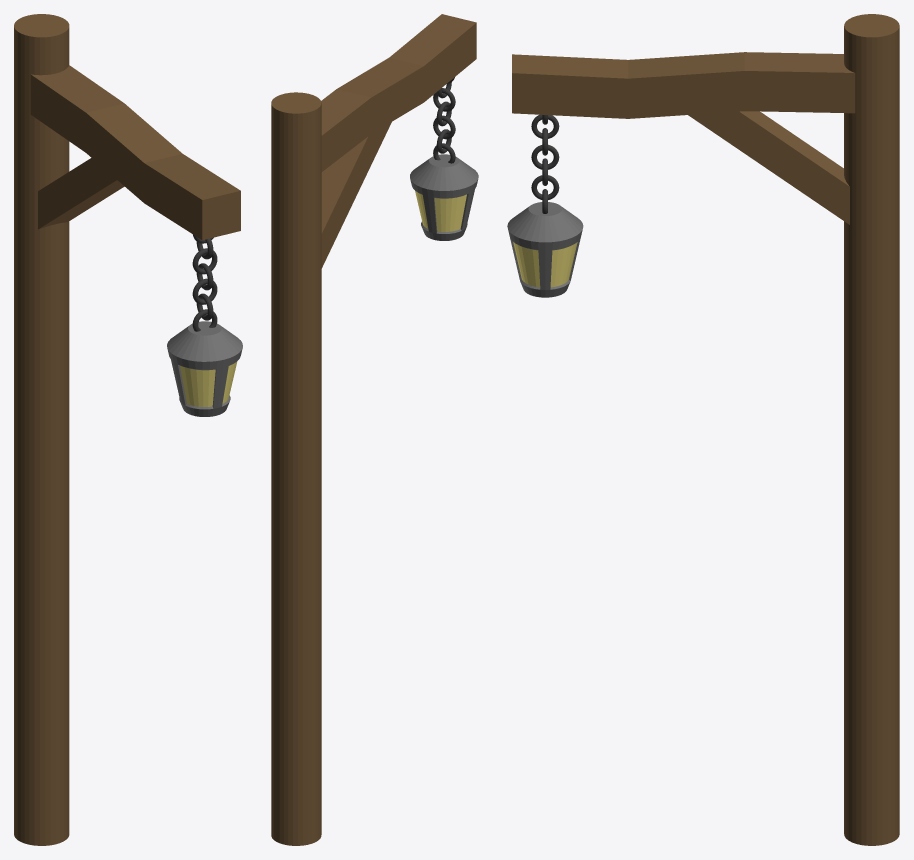
The model's file is Lantern.fbx.
The picture shows the model from 3 angles, left to right: view 1: azimuth 30°, elevation 25°; view 2: azimuth 150°, elevation 25°; view 3: azimuth 270°, elevation 25°; orthographic projection. The views are drawn at different scales.
Parts seen in each view (by area): view 1: Cylinder; view 2: Cylinder; view 3: Cylinder.
Boxes of the visible parts, box(x1,y1,x2,y2) form: Cylinder: box(14, 14, 242, 845); Cylinder: box(271, 14, 478, 845); Cylinder: box(507, 14, 899, 845).
Size of the model in its own units: 34.27 by 402 by 177.
